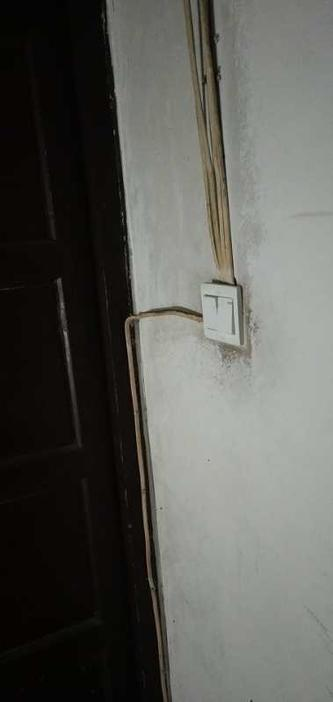switch: (220, 298, 238, 336), (203, 294, 216, 330)
